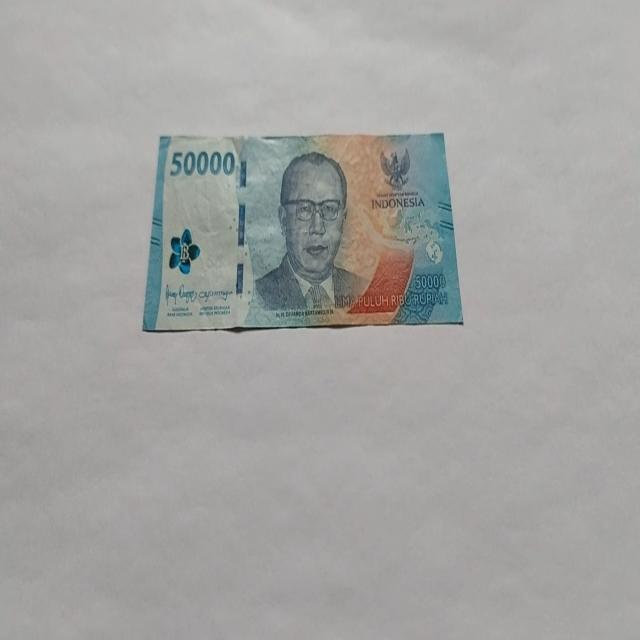lima puluh ribu rupiah: (142, 130, 464, 333), (252, 150, 370, 316)
